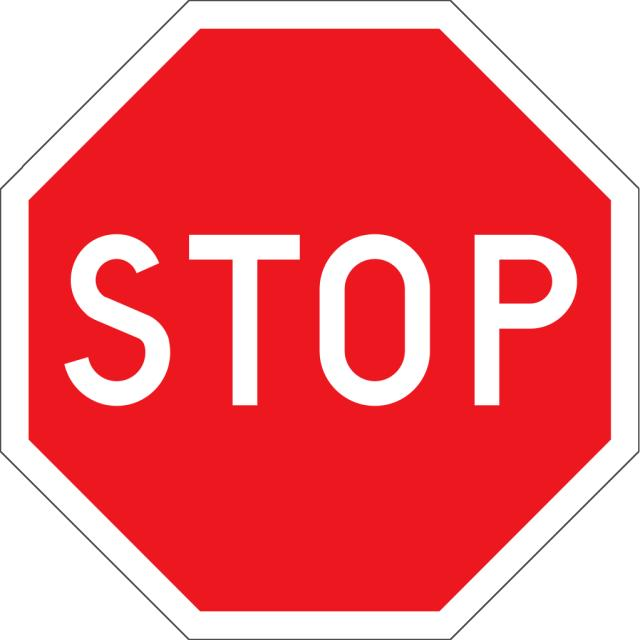stop: (56, 210, 590, 442)
